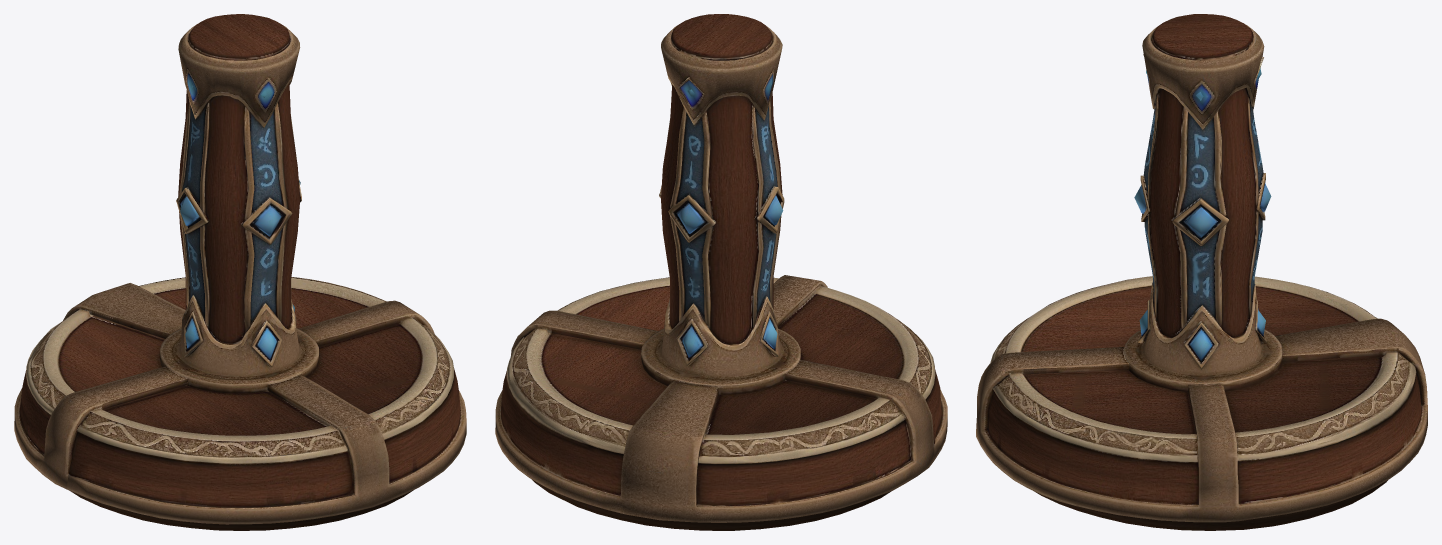
File: tripo_convert_8728a93b-0d41-470f-ba8a-15908db039ea.fbx
The picture shows the model from 3 angles, left to right: view 1: azimuth 30°, elevation 25°; view 2: azimuth 150°, elevation 25°; view 3: azimuth 270°, elevation 25°; orthographic projection.
Visible parts, largest first — view 1: tripo_node_8728a93b; view 2: tripo_node_8728a93b; view 3: tripo_node_8728a93b.
Boxes of the visible parts, bbox=[...] form: tripo_node_8728a93b: bbox=[14, 14, 466, 530]; tripo_node_8728a93b: bbox=[495, 14, 947, 530]; tripo_node_8728a93b: bbox=[976, 14, 1427, 530].
Size of the model in its own units: 0.998 by 0.998 by 0.998.
Materials: 1 (1 with a texture image).
